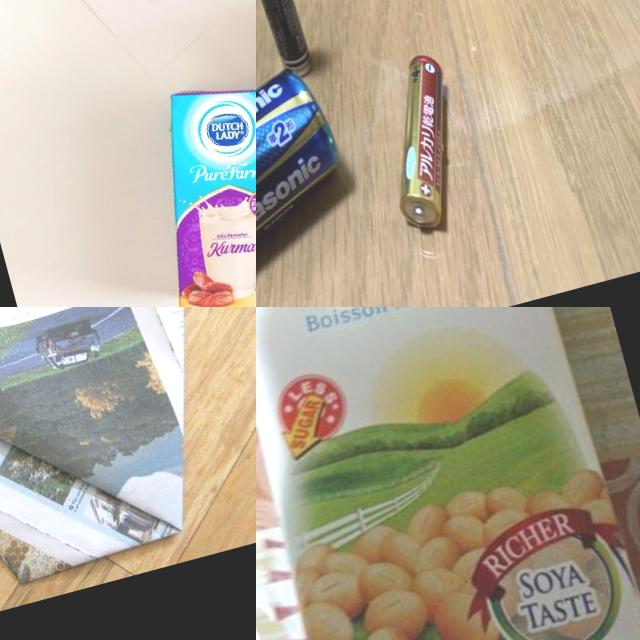bateria: (256, 57, 365, 302), (360, 47, 484, 239), (256, 0, 321, 83)
caixinha: (256, 307, 640, 640), (125, 66, 256, 307)
papel: (0, 307, 256, 617)
